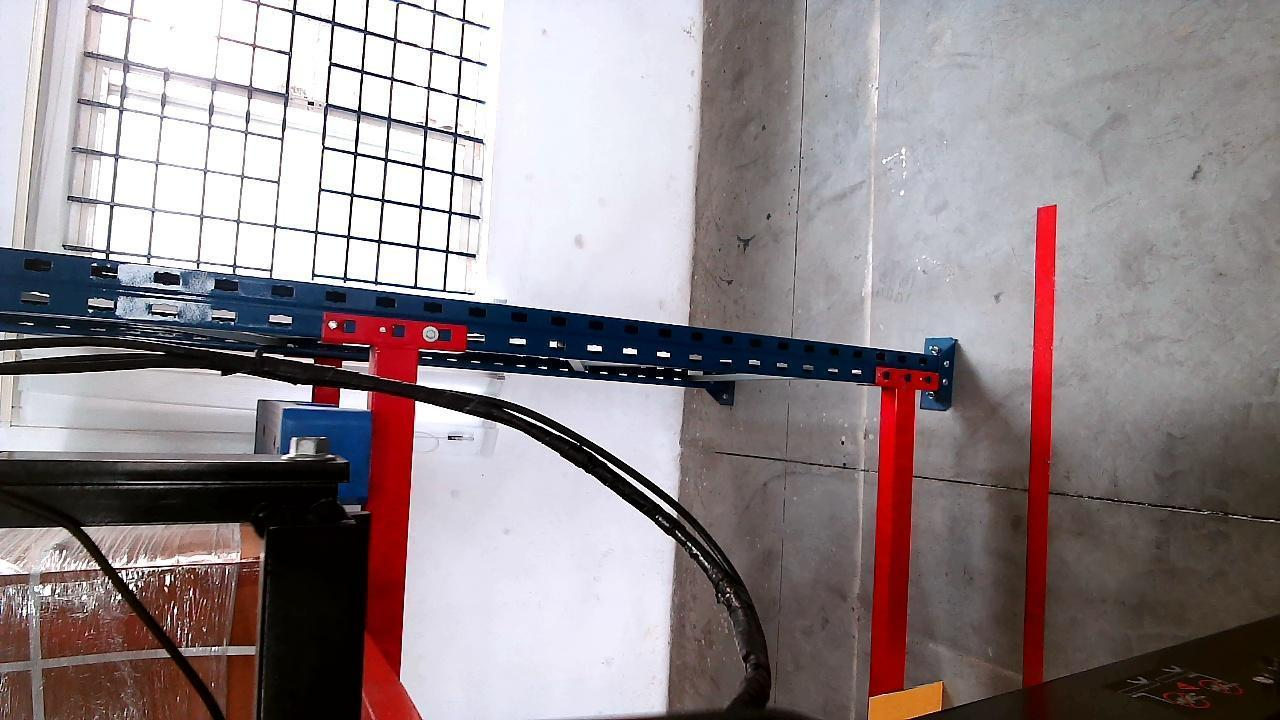h_rack: (360, 366, 416, 720), (873, 375, 907, 712)
orange_strip: (864, 682, 947, 720)
red_line: (1023, 212, 1058, 686)
yellow_line: (13, 0, 43, 254)
